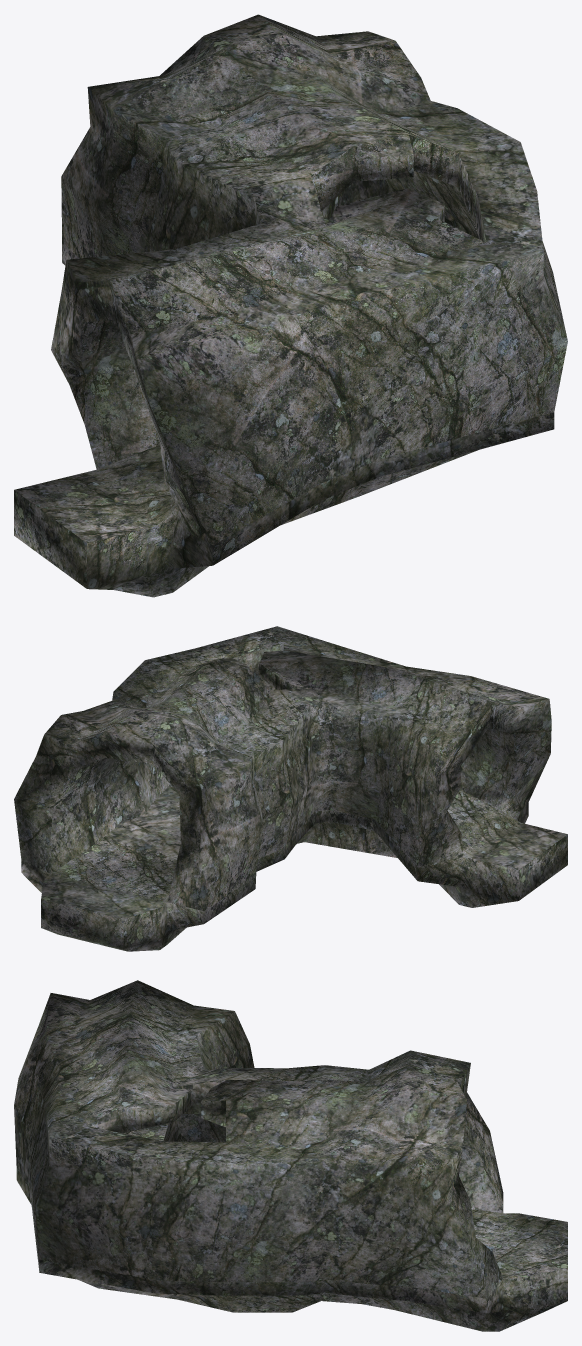
File: Cave.fbx
3 renders of one model, top to bottom at view 1: azimuth 30°, elevation 25°; view 2: azimuth 150°, elevation 25°; view 3: azimuth 270°, elevation 25°, orthographic. The views are drawn at different scales.
Parts seen in each view (by area): view 1: walls_ceiling, cavefloor; view 2: walls_ceiling, cavefloor; view 3: walls_ceiling, cavefloor.
Part boxes in pixels (x1,y1,x2,y2): walls_ceiling: (51, 14, 567, 544); cavefloor: (14, 215, 554, 597); walls_ceiling: (14, 626, 551, 911); cavefloor: (21, 784, 567, 951); walls_ceiling: (14, 980, 503, 1298); cavefloor: (16, 1123, 567, 1331).
Size of the model in its own units: 33.99 by 18.83 by 37.71.
Materials: 1 (1 with a texture image).
